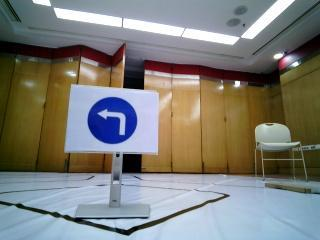left: (74, 92, 159, 156)
